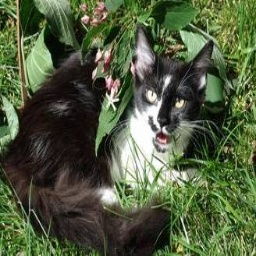cat: (24, 21, 234, 256)
